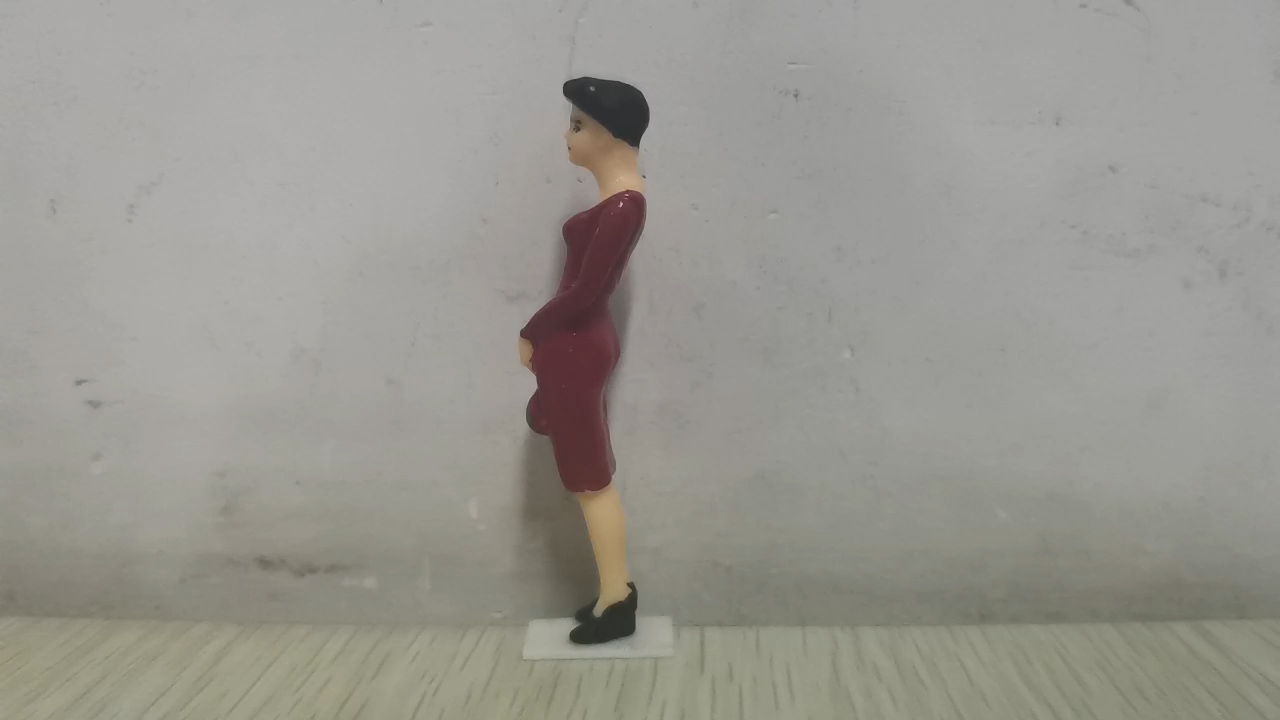person: (515, 74, 655, 646)
